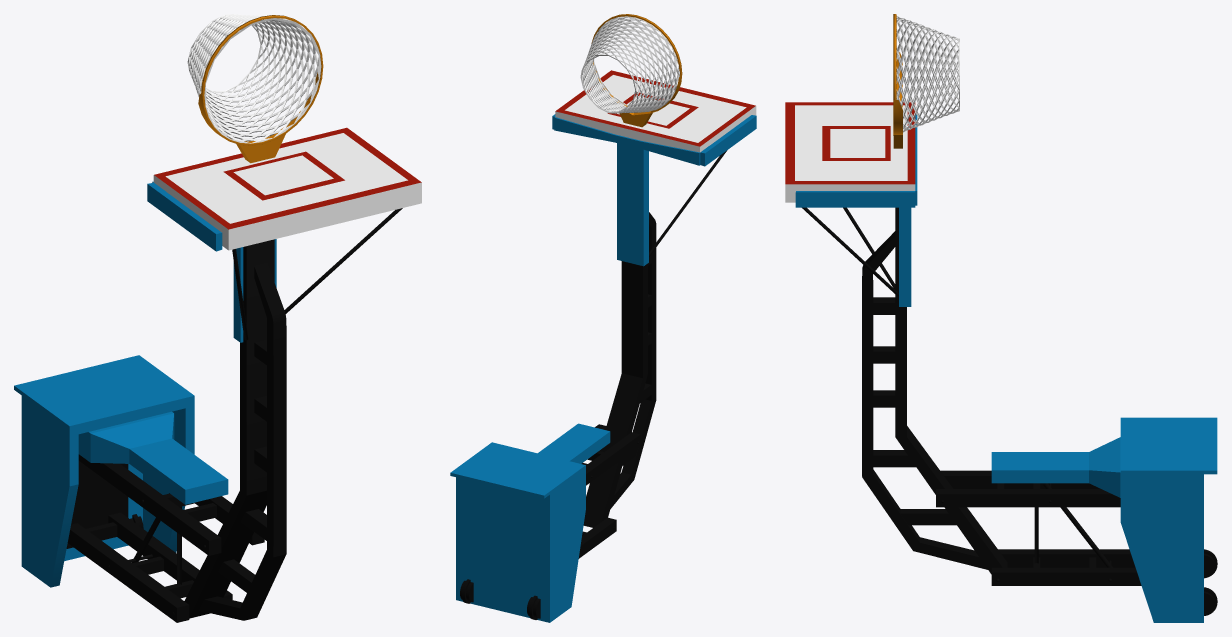
File: backboard.obj
The picture shows the model from 3 angles, left to right: view 1: azimuth 30°, elevation 25°; view 2: azimuth 150°, elevation 25°; view 3: azimuth 270°, elevation 25°; orthographic projection. The views are drawn at different scales.
Parts seen in each view (by area): view 1: Cube.001, Cube.016, Cylinder.004, Cube.014, Cylinder.003, Cube.009, Cube.002, Cube.015, Cylinder.016, Cylinder.005; view 2: Cube.001, Cube.016, Cube.015, Cube.009, Cylinder.003, Cube.014, Cylinder.004, Cube.002, Cylinder.016, Cylinder.001; view 3: Cube.001, Cube.016, Cylinder.004, Cube.014, Cylinder.003, Cube.009, Cube.002, Cube.015, Cylinder.016.
Part boxes in pixels (box(x1,y1,x2,y2)): Cube.001: box(14, 355, 194, 587); Cube.016: box(153, 127, 421, 250); Cylinder.004: box(66, 454, 264, 622); Cube.014: box(199, 263, 286, 620); Cylinder.003: box(187, 14, 321, 143); Cube.009: box(184, 239, 274, 618); Cube.002: box(78, 411, 228, 504); Cube.015: box(147, 181, 276, 342); Cylinder.016: box(198, 15, 323, 163); Cylinder.005: box(284, 208, 402, 313); Cube.001: box(450, 442, 585, 622); Cube.016: box(555, 70, 756, 152); Cube.015: box(552, 114, 756, 266); Cube.009: box(583, 261, 647, 527); Cylinder.003: box(580, 16, 679, 113); Cube.014: box(610, 212, 656, 508); Cylinder.004: box(578, 424, 640, 558); Cube.002: box(538, 423, 610, 463); Cylinder.016: box(591, 14, 682, 127); Cylinder.001: box(649, 150, 727, 256); Cube.001: box(1120, 417, 1217, 622); Cube.016: box(785, 102, 915, 202); Cylinder.004: box(936, 470, 1141, 585); Cube.014: box(862, 231, 987, 569); Cylinder.003: box(896, 16, 959, 132); Cube.009: box(895, 207, 1007, 574); Cube.002: box(991, 437, 1120, 497); Cube.015: box(795, 114, 917, 306); Cylinder.016: box(893, 14, 902, 148).
Size of the model in its own units: 2.76 by 8.6 by 5.84.
